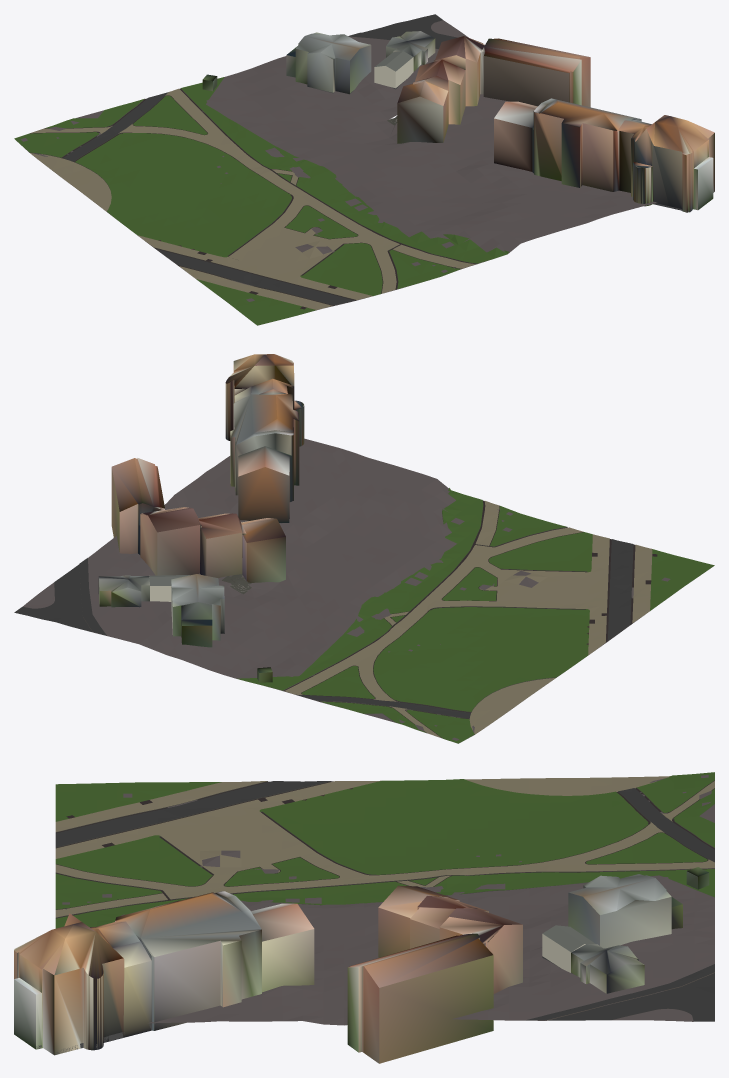
3 views of the same model, one above another, from view 1: azimuth 30°, elevation 25°; view 2: azimuth 150°, elevation 25°; view 3: azimuth 270°, elevation 25° (orthographic). The views are drawn at different scales.
Visible parts, largest first — view 1: c_p02_p10; view 2: c_p02_p10; view 3: c_p02_p10.
Part boxes in pixels (x1=…): c_p02_p10: x1=14, y1=14, x2=714, y2=325; c_p02_p10: x1=14, y1=354, x2=714, y2=743; c_p02_p10: x1=14, y1=772, x2=714, y2=1063.
Size of the model in its own units: 139 by 29.6 by 136.
